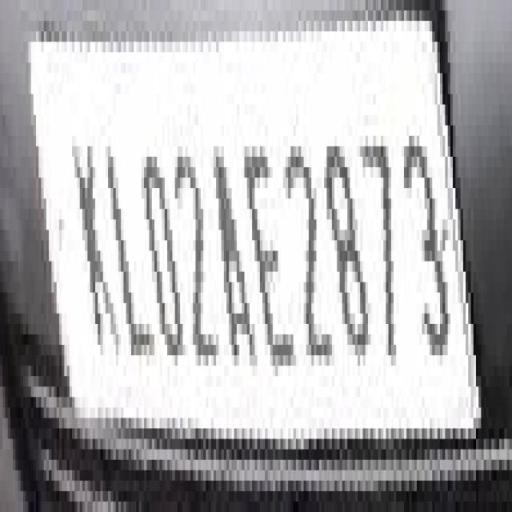number plate: (23, 0, 512, 470)
